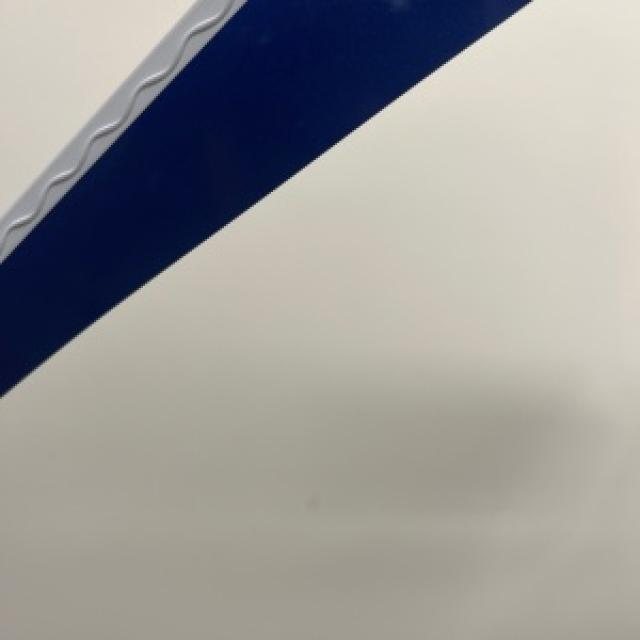healthy: (0, 0, 638, 638), (0, 0, 183, 209)
